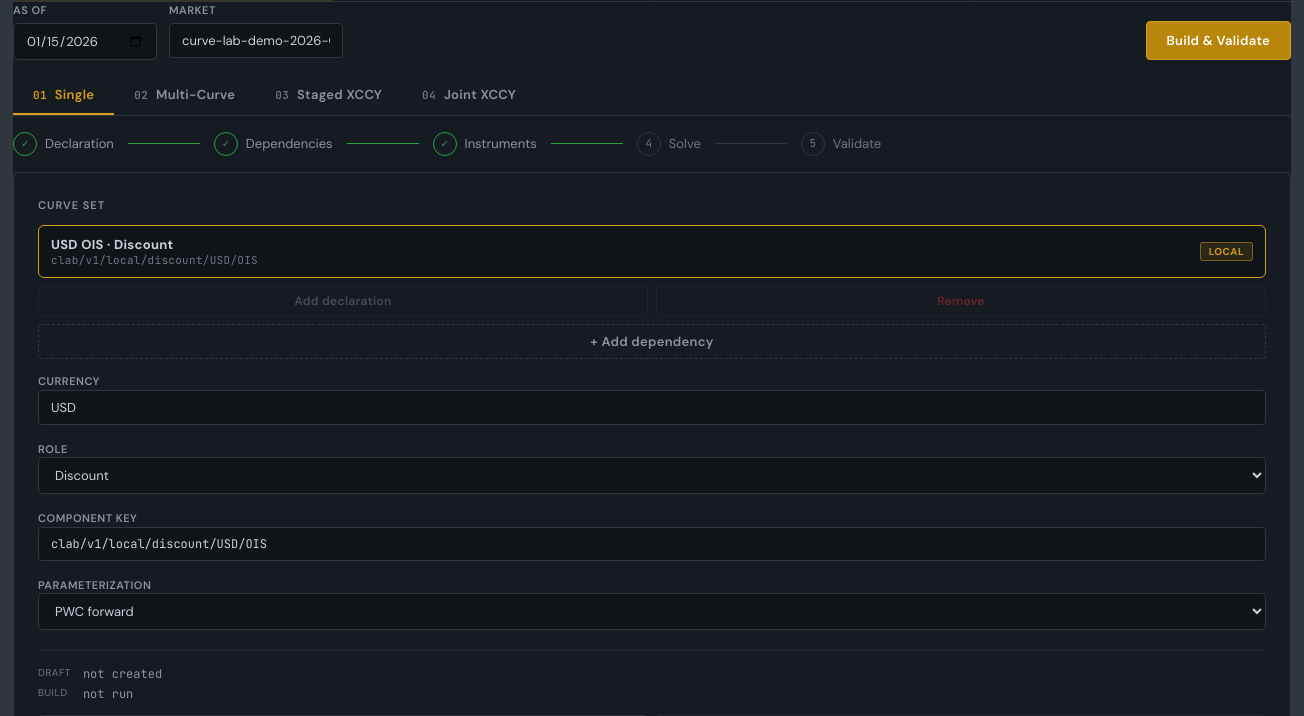
Test case: Curve Lab V2 workspace › builds and validates from the header without leaving the builder
Click the button "Build & Validate".
click(1218, 40)  # box [1146,20,1291,60]
(page scrolled)
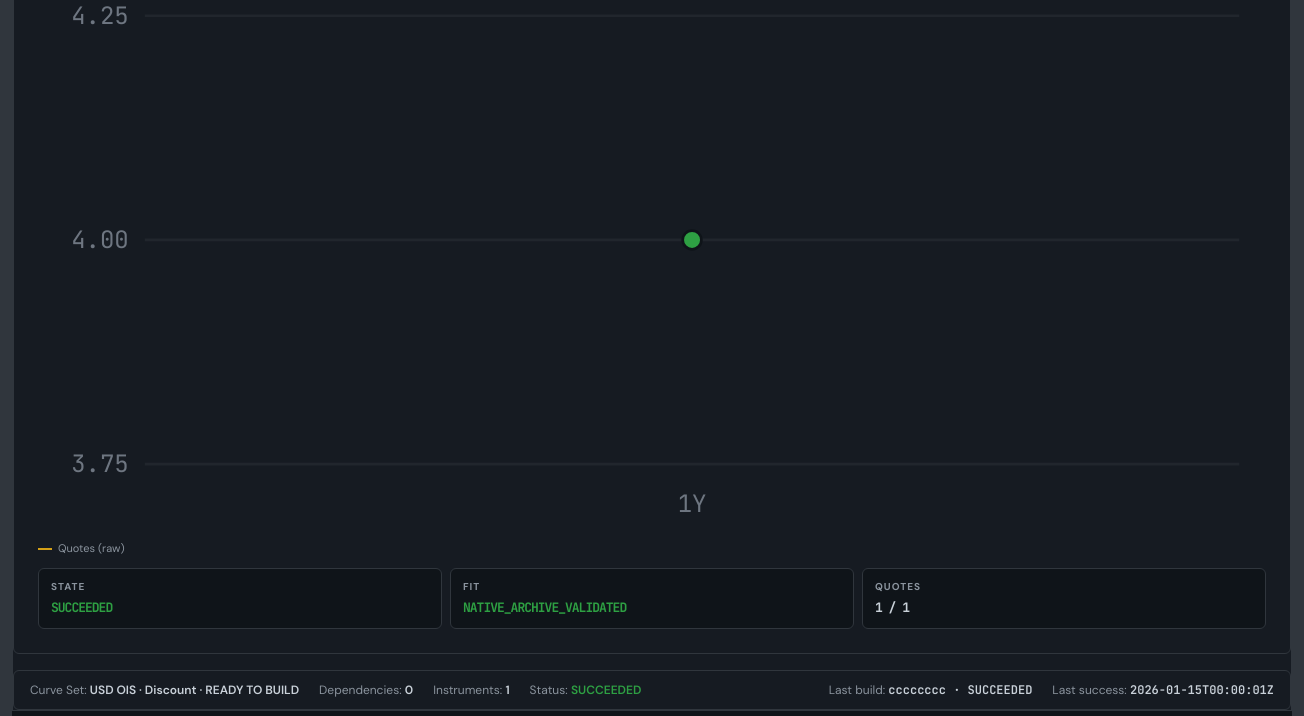
Expected: the text "Last success:" is shown, [1052,682,1130,698]
Now the text "NATIVE_ARCHIVE_VALIDATED" is shown, box [463,599,626,616]
